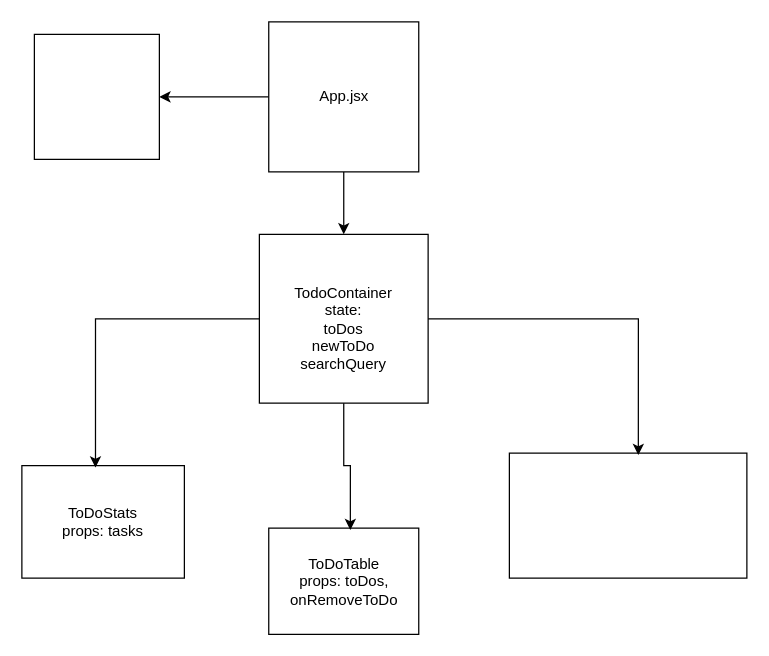
The diagram is 769 pixels wide and 656 high, and some of its shapes have lost their labels. The shapes that lost their labels are listed below. From the top down, each one's centre as x and y in pixels, then its label:
(x=96, y=96): PageTitle (props: title)
(x=627, y=515): AddToDoComponent get 3 props: newToDo onNewToDoChange onAddToDo
